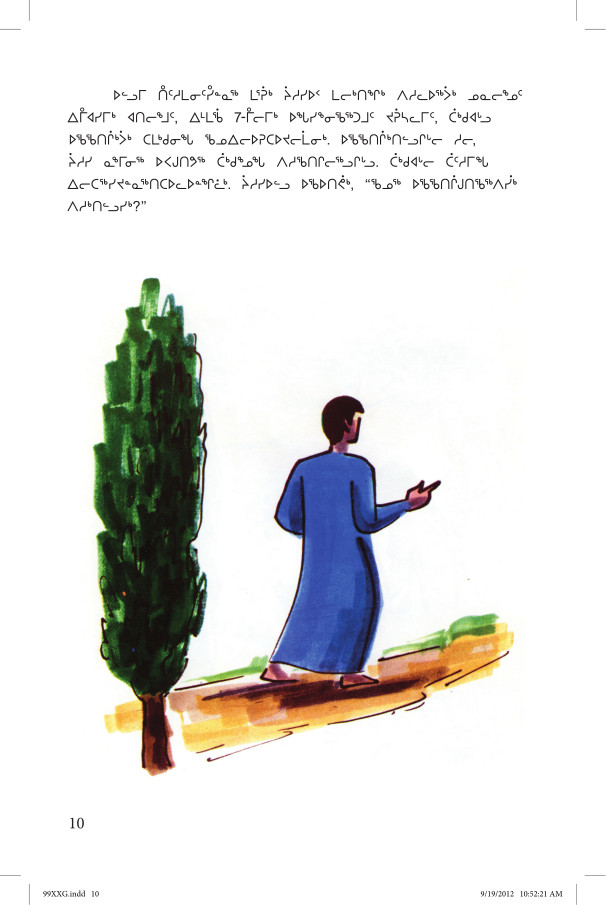inuktitut: (59, 76, 531, 219)
